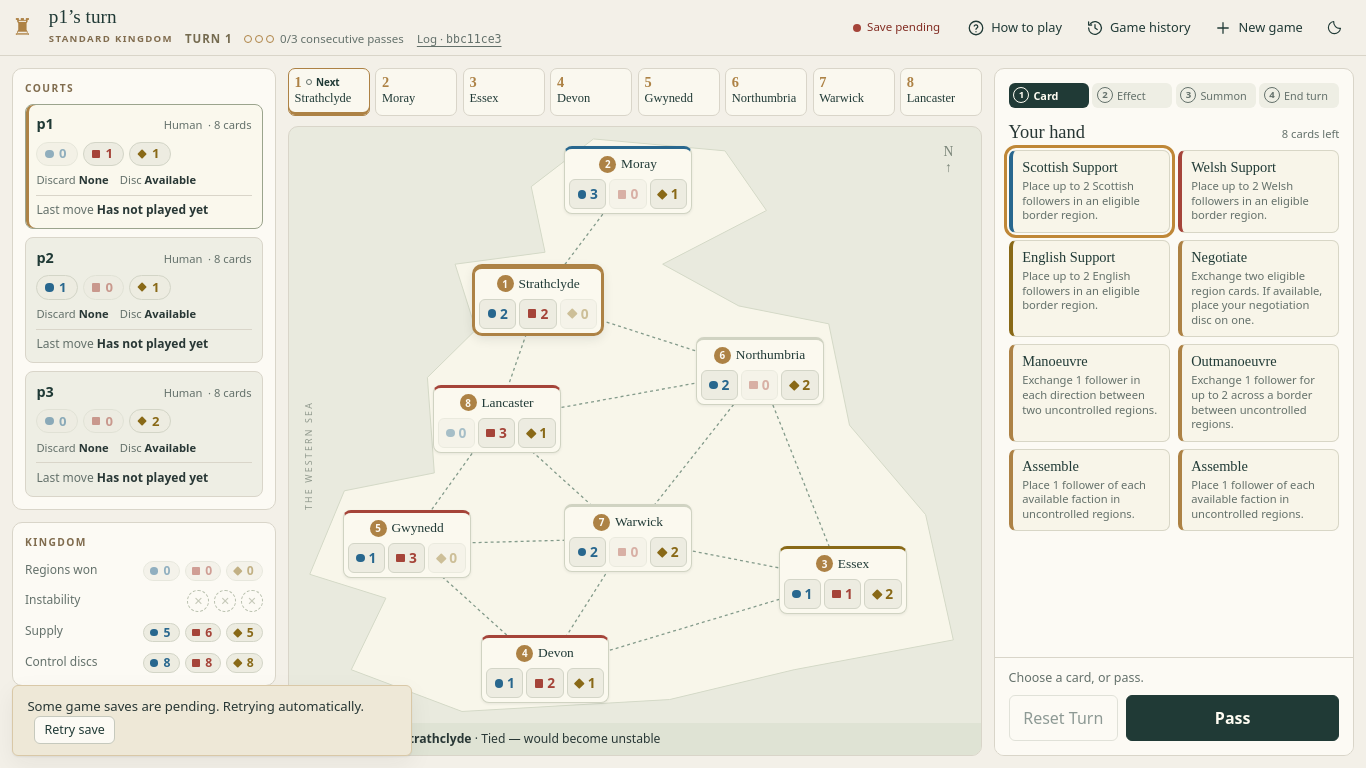
Test: keyboard focus and accessible names › opens How to play with every Standard card and returns focus on close
Click the button "How to play" at (1014, 28), box [956,10,1073,46]
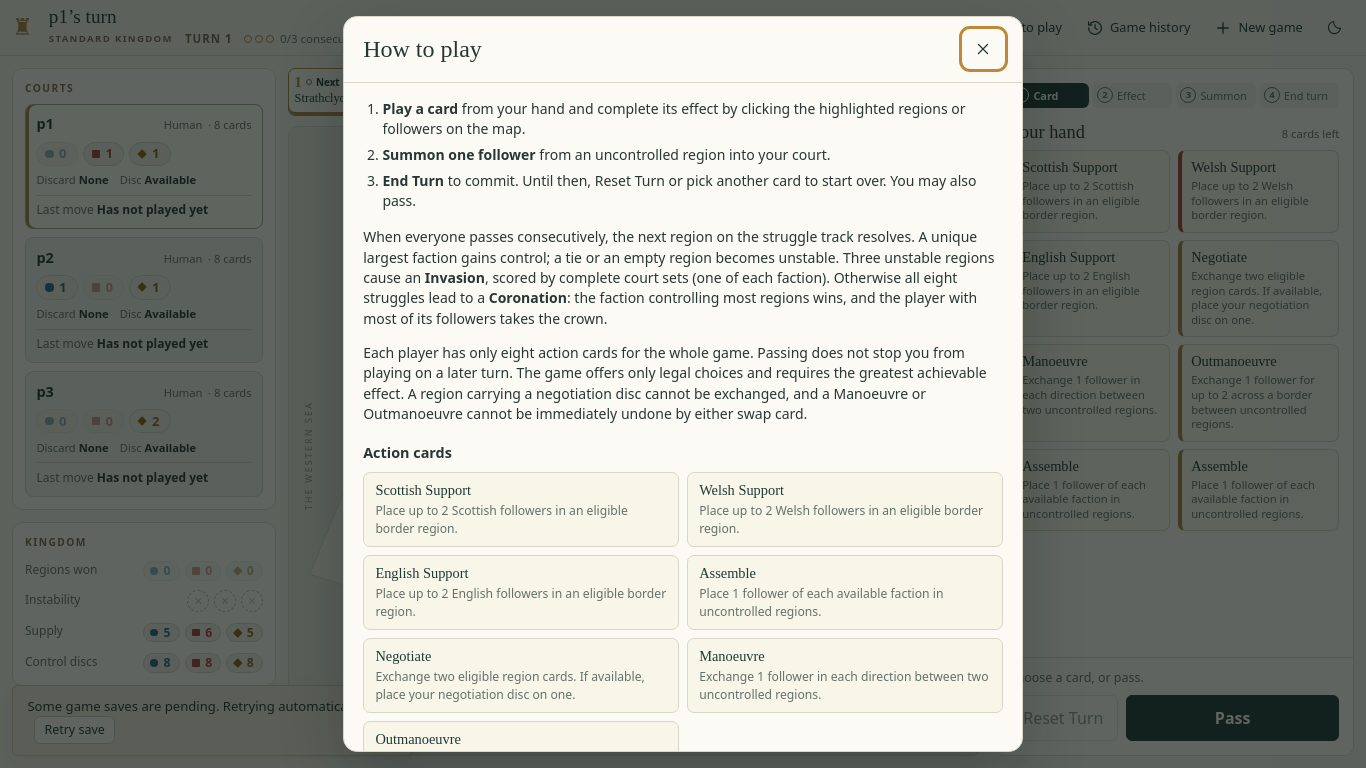
Press Enter
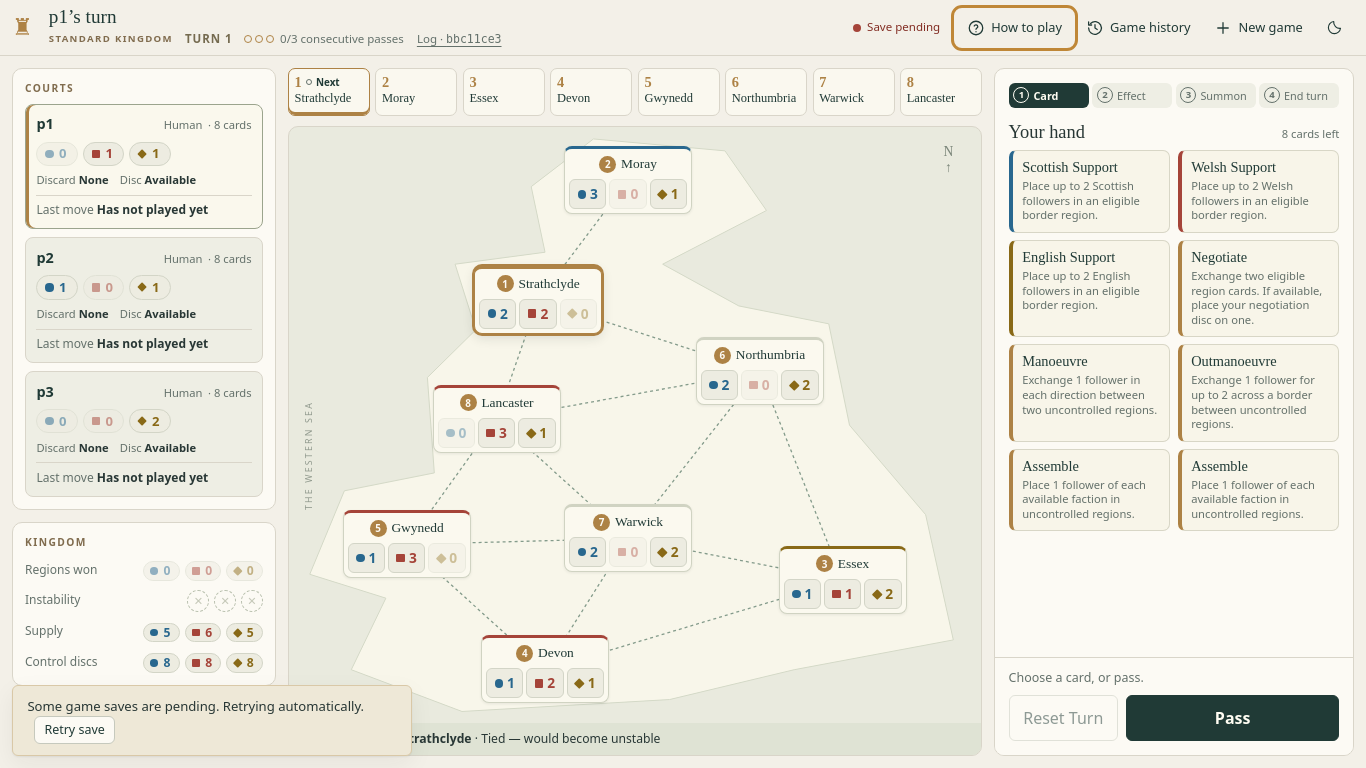
Result: the dialog is gone
